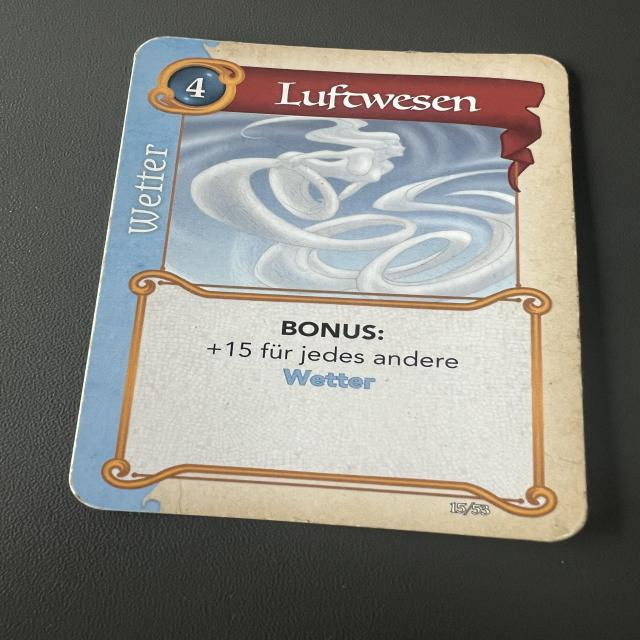Air Elemental: (61, 32, 590, 545)
